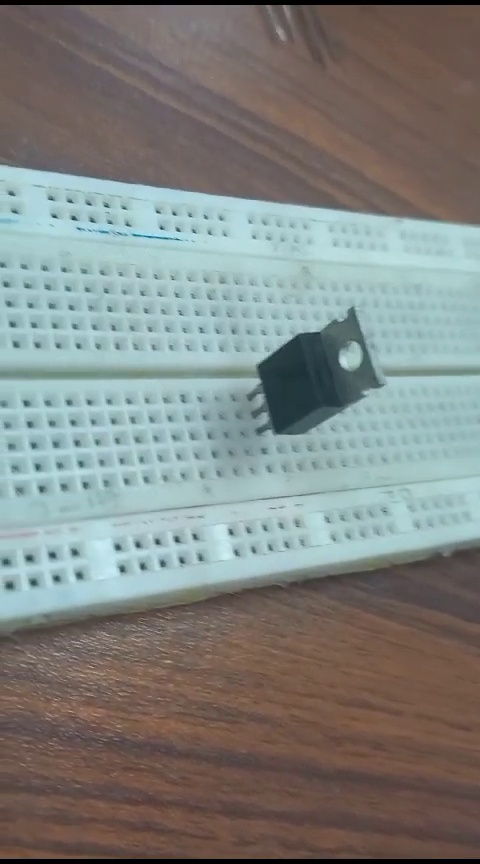voltage regulator: (229, 303, 385, 439)
